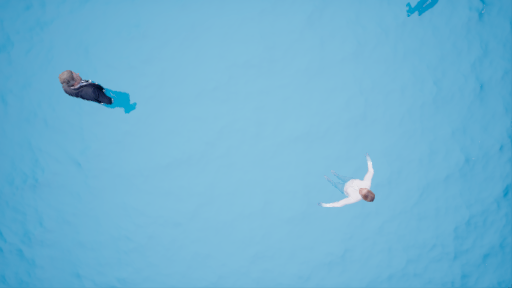person: (58, 65, 140, 121), (316, 154, 387, 214)
